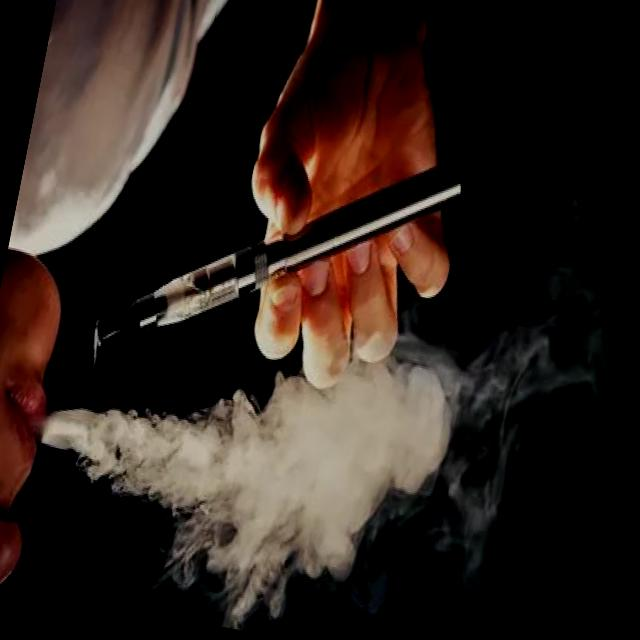cigarette: (84, 94, 472, 411)
